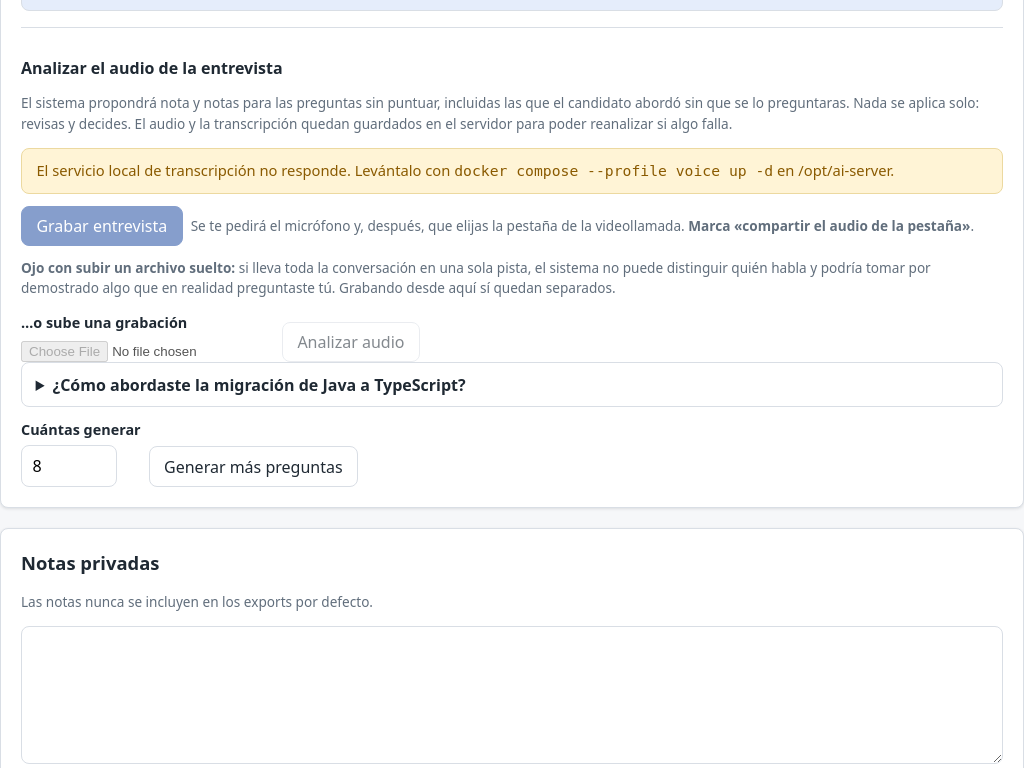
Test case: CandidateDetailPage · entrevista › traduce el error 400 del backend al pulsar una nota
(page scrolled)
Step 1. Click the heading "¿Cómo abordaste la migración de Java a TypeScript?" → (259, 385), box [52,374,466,396]
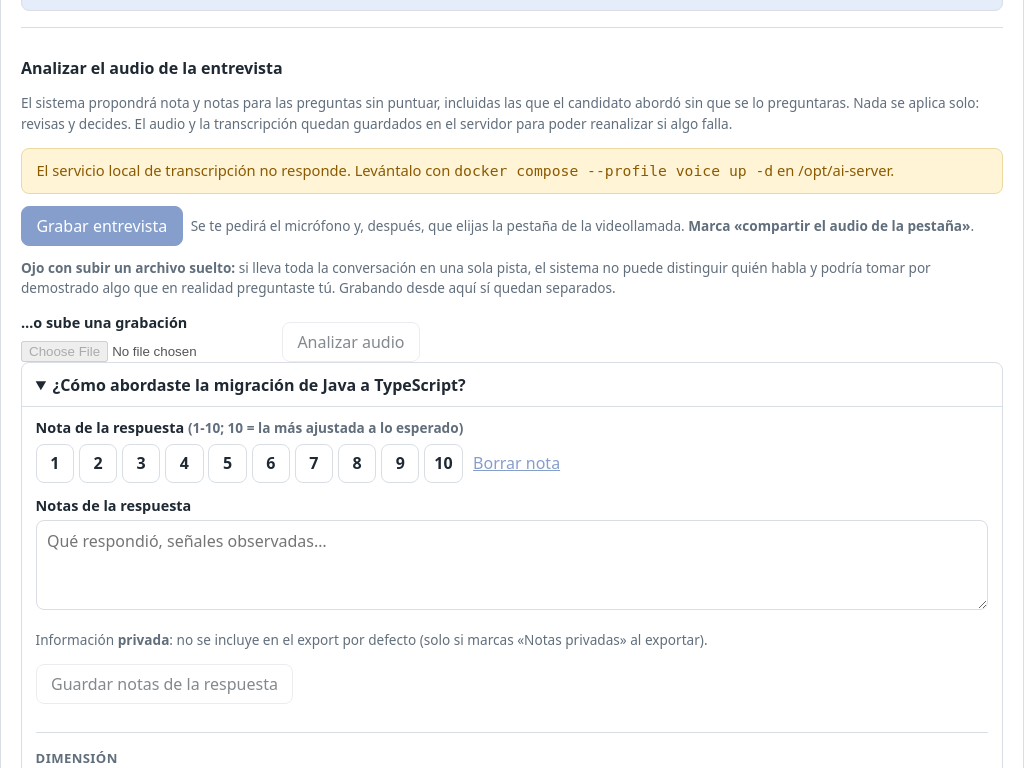
Step 2. Click the button "3" → (141, 463), box [122,444,160,483]
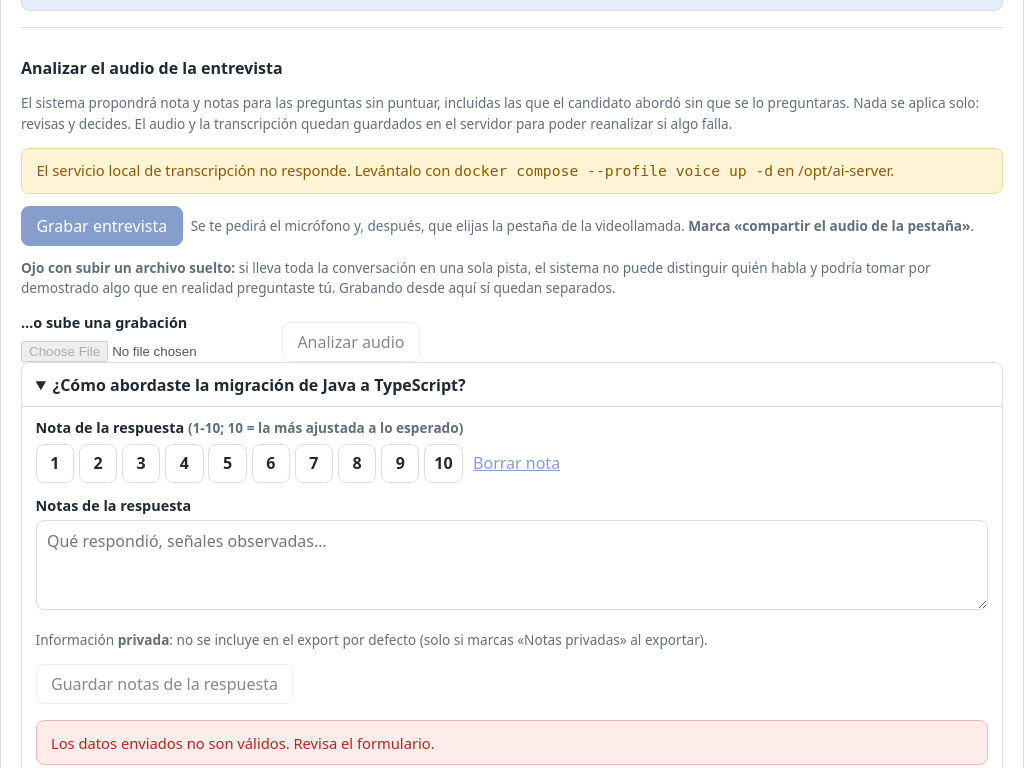
Expected: the text "Los datos enviados no son válidos. Revisa el formulario." is shown, [36,720,988,765]
